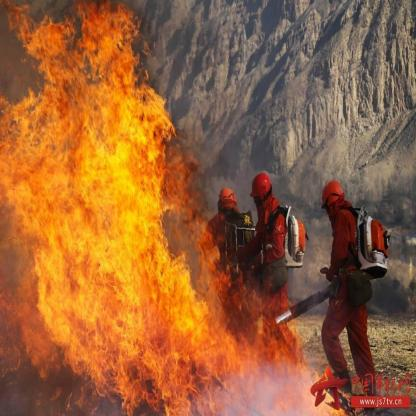fire: (2, 3, 332, 412)
other: (311, 167, 386, 386), (213, 156, 304, 298)
